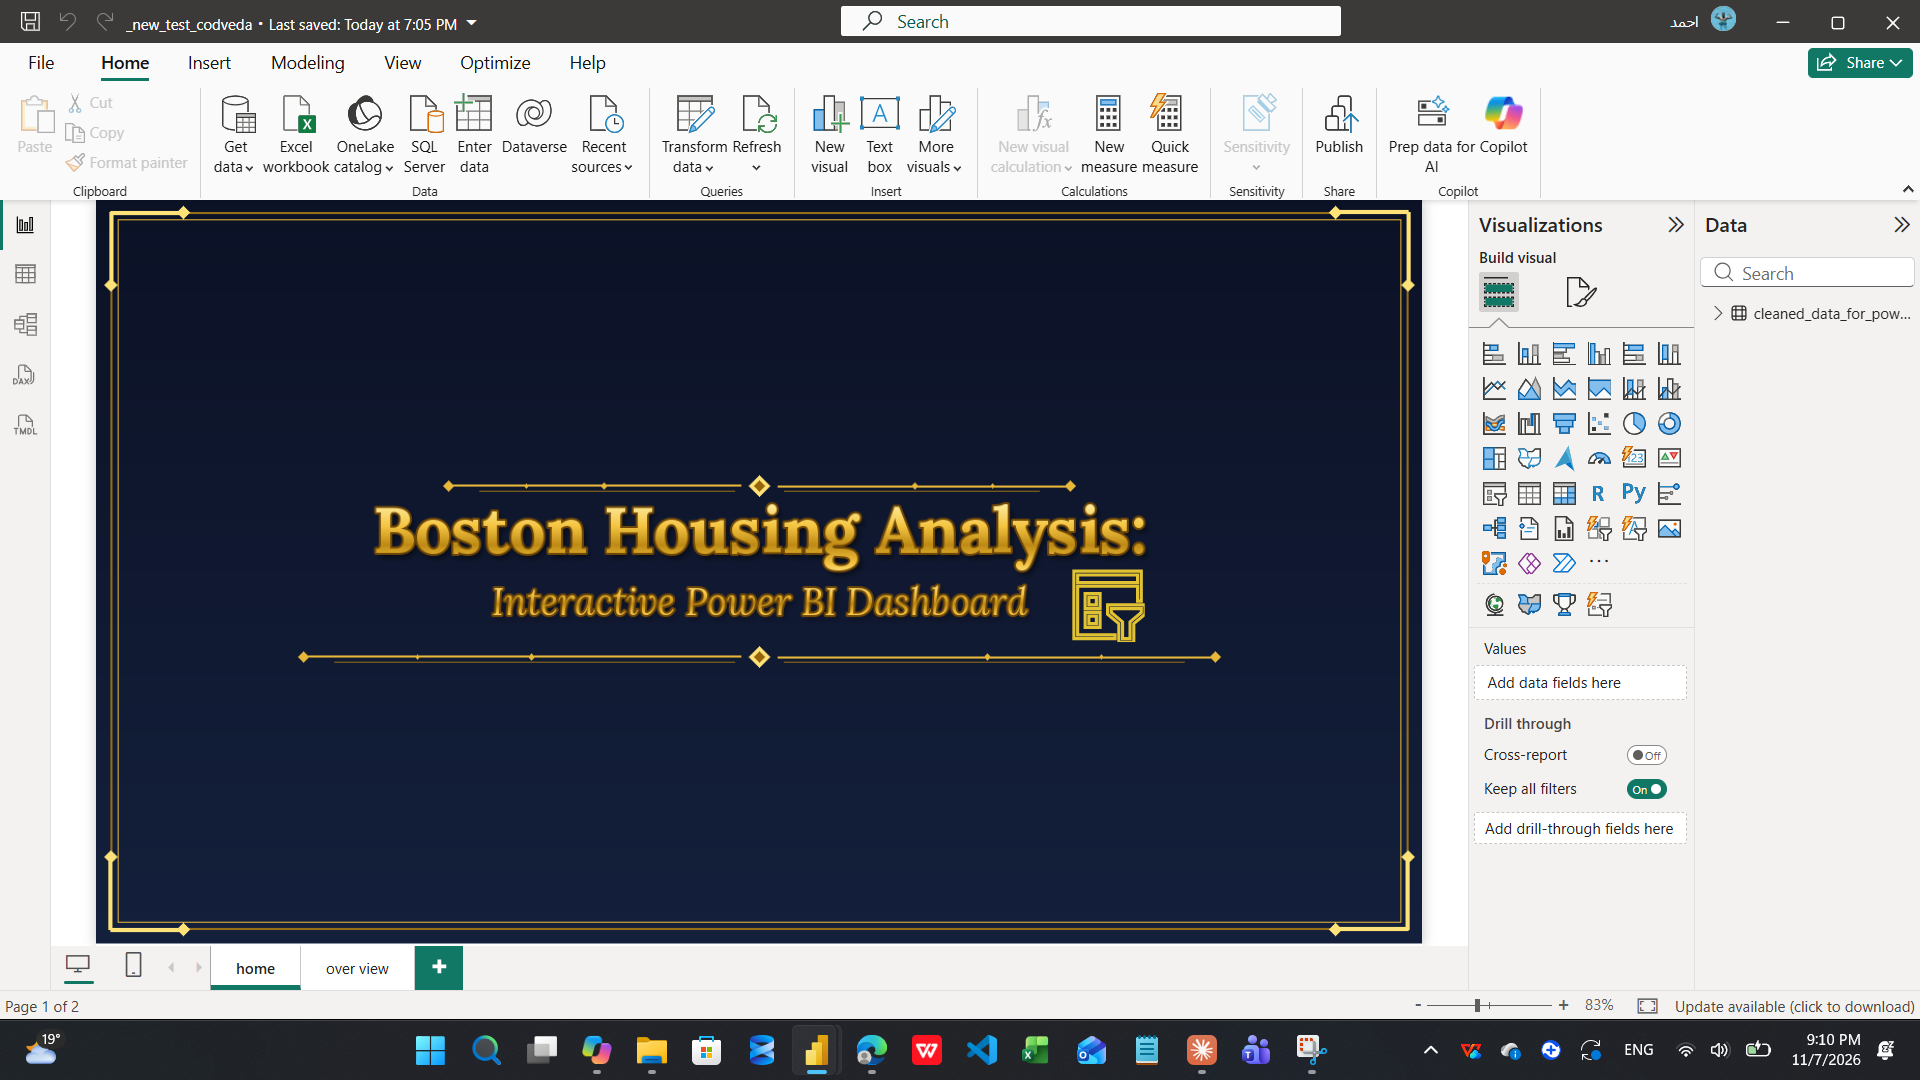

The page's visual inventory and layout, read from the dashboard file:
{"tool":"powerbi","page":{"name":"home","canvas":[1280,720],"ordinal":0},"visuals":[{"type":"actionButton","box":[936.6,345.1,80.3,91.5],"z":0},{"type":"actionButton","box":[188.7,223.9,907,240.8],"z":1000}]}

Visuals, with their boxes on the page's 1280x720 design canvas (x1, y1, x2, y2). These are canvas units, not pixel positions in the 1920x1080 screenshot, which may show the page scaled, cropped or inside an application window:
actionButton: [937, 345, 1017, 437]
actionButton: [189, 224, 1096, 465]
